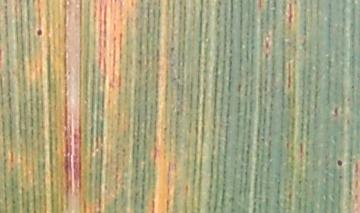tarspot: (33, 26, 45, 39), (332, 105, 341, 116), (336, 158, 344, 169), (337, 174, 344, 181), (350, 84, 356, 91), (345, 96, 351, 103)
